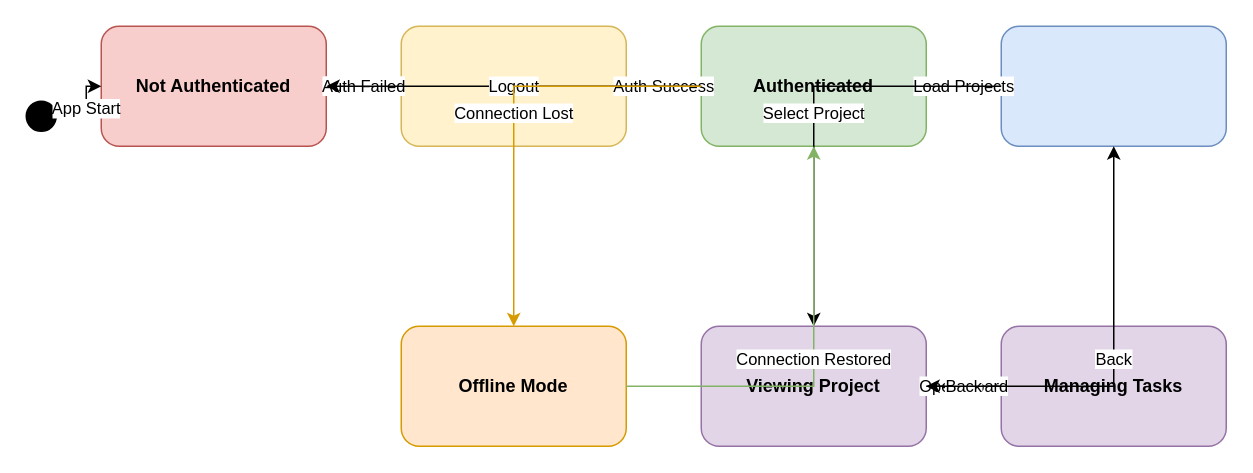
Some shapes in this 1253 by 473 pixel diagram are drawn without their labels. The box of each missing label's shape, as (x1, y1, x2, y2) in pixels:
Authenticating: (400, 25, 626, 146)
Loading Projects: (1000, 25, 1226, 146)
